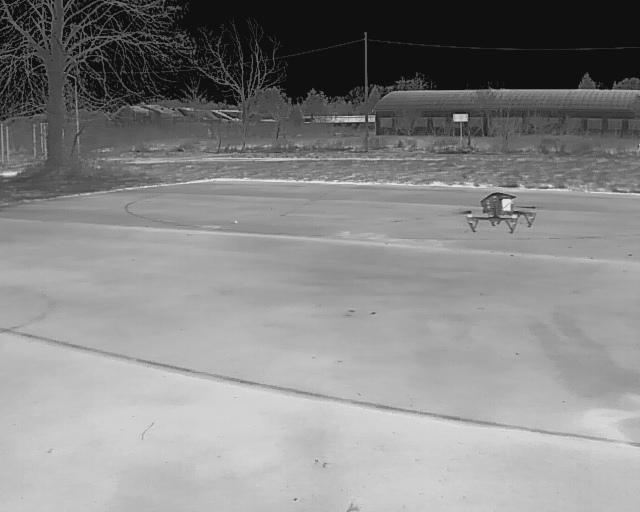drone: (448, 183, 542, 242)
